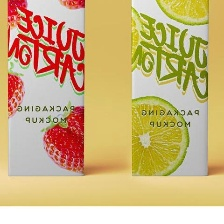carton: (125, 0, 213, 179), (4, 0, 87, 181)
